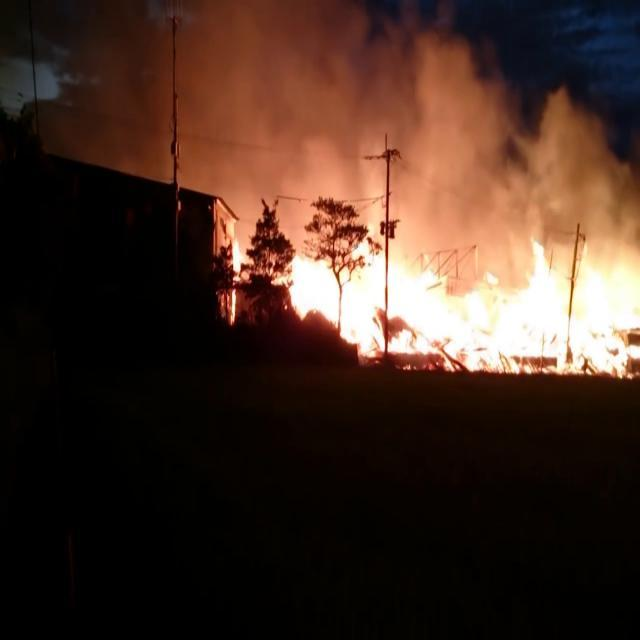Fire: (223, 220, 640, 382)
Smoke: (17, 11, 640, 208)
